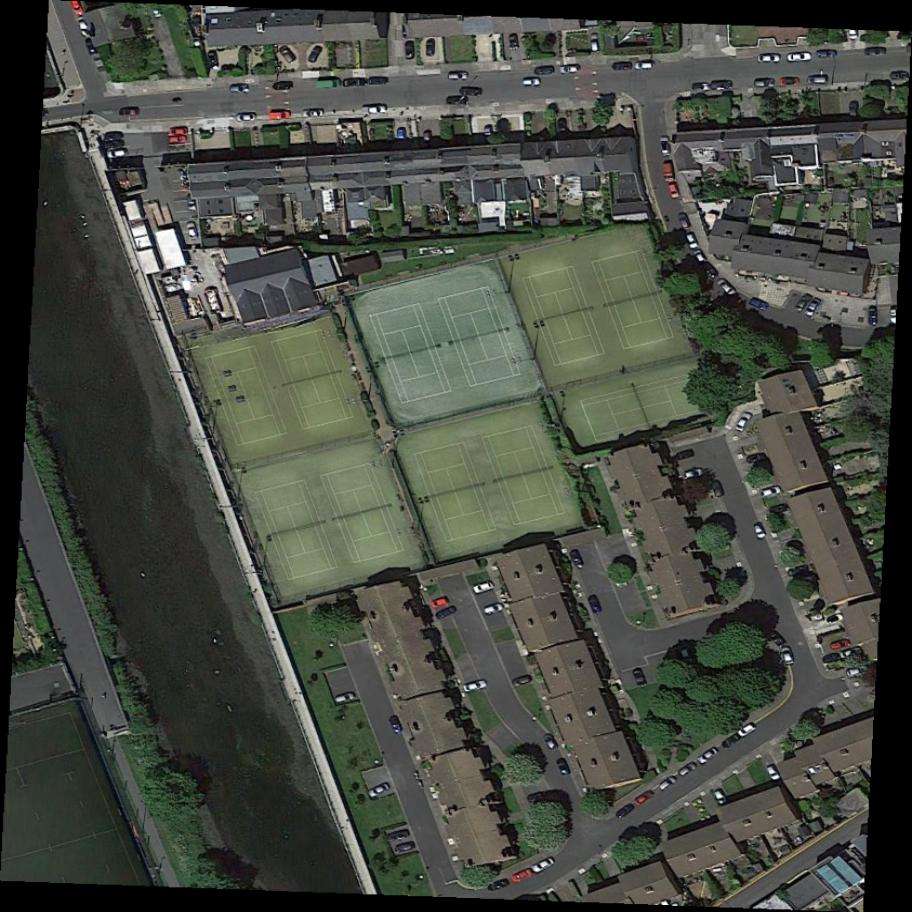large-vehicle: (315, 78, 342, 90), (662, 162, 675, 183), (268, 111, 293, 120)
small-vehicle: (716, 276, 738, 299), (697, 745, 721, 766), (532, 855, 557, 875), (435, 603, 460, 622), (735, 410, 754, 435), (657, 773, 679, 794), (367, 781, 391, 800), (634, 788, 657, 807), (386, 827, 411, 844), (527, 789, 555, 804), (616, 801, 637, 821), (768, 628, 788, 649), (307, 43, 326, 65), (487, 877, 511, 894), (512, 867, 534, 885), (631, 666, 649, 688), (677, 761, 699, 779), (472, 579, 495, 596), (569, 548, 586, 571), (463, 679, 489, 694), (279, 45, 298, 65), (737, 720, 757, 739), (721, 732, 741, 751), (794, 292, 812, 313), (587, 594, 604, 616), (805, 296, 822, 318), (759, 485, 783, 500), (829, 638, 853, 653), (749, 296, 770, 313), (556, 756, 572, 778), (765, 763, 782, 783), (512, 672, 533, 688), (84, 36, 100, 57), (334, 691, 356, 706), (702, 261, 719, 280), (787, 564, 810, 578), (543, 731, 559, 751), (388, 716, 404, 736), (484, 601, 505, 616), (822, 650, 843, 665), (678, 211, 693, 232), (752, 523, 768, 542), (186, 221, 200, 242), (781, 645, 795, 666), (675, 448, 696, 462), (395, 840, 417, 853), (841, 647, 863, 660), (590, 32, 603, 54), (685, 233, 700, 252), (668, 181, 682, 201), (712, 789, 728, 806), (693, 248, 709, 265), (70, 0, 84, 19), (711, 479, 725, 498), (559, 63, 581, 75), (685, 467, 705, 480), (534, 65, 556, 76), (612, 60, 634, 71), (459, 86, 483, 96), (272, 81, 296, 91), (364, 105, 388, 115), (788, 53, 812, 63), (103, 140, 124, 151), (208, 49, 219, 70), (711, 80, 733, 90), (432, 596, 450, 608), (508, 33, 520, 51), (449, 71, 470, 81), (103, 131, 124, 141), (816, 49, 837, 59), (660, 136, 670, 156), (167, 127, 189, 136), (849, 100, 860, 118), (864, 47, 886, 56), (106, 149, 125, 159), (447, 96, 470, 104), (344, 78, 367, 86), (758, 56, 781, 64), (406, 40, 415, 60), (636, 61, 656, 70), (808, 76, 828, 85), (869, 306, 878, 326), (779, 78, 801, 86), (78, 16, 89, 32), (427, 38, 436, 57), (890, 71, 909, 80), (846, 667, 863, 677), (119, 108, 140, 116), (236, 114, 257, 122), (369, 77, 390, 85), (304, 109, 325, 117), (168, 137, 189, 145), (559, 118, 569, 134), (230, 85, 249, 93), (755, 79, 776, 86), (524, 78, 542, 86), (848, 29, 859, 42), (485, 126, 494, 141), (398, 128, 407, 142), (425, 131, 433, 142)
